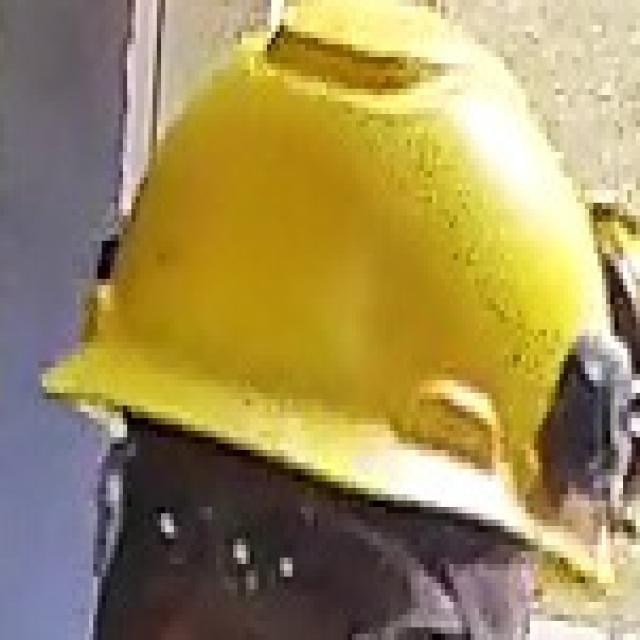yellow helmet: (36, 1, 640, 593)
